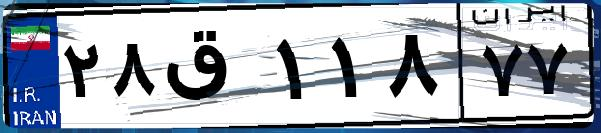1: (270, 28, 330, 110), (330, 28, 385, 110)
2: (57, 26, 110, 100)
7: (475, 38, 525, 113), (525, 38, 570, 115)
8: (385, 28, 445, 110), (110, 28, 158, 98)
ق: (158, 20, 270, 120)
